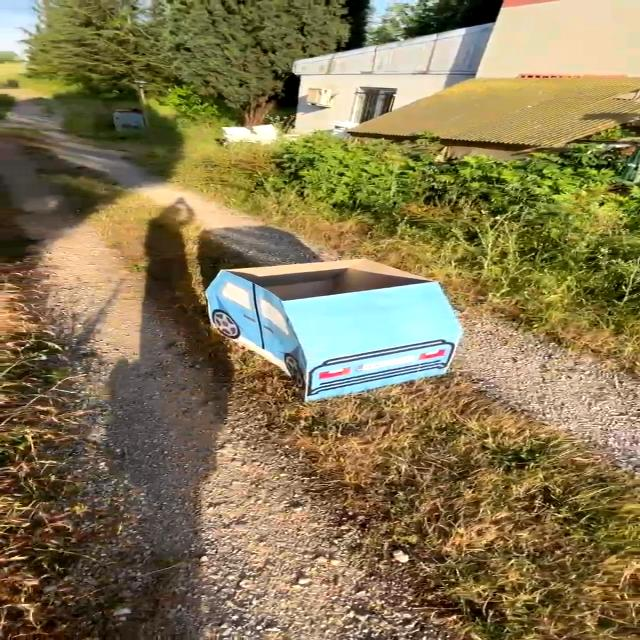blue_car: (147, 230, 503, 421)
